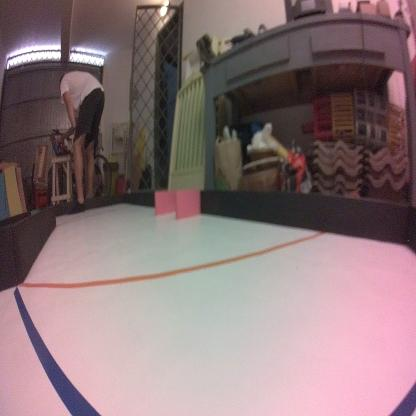magenta: (174, 190, 200, 221), (154, 189, 178, 217)
